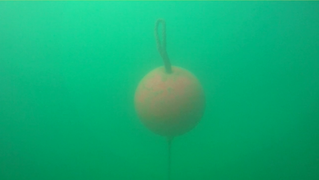buoy: (133, 64, 206, 137)
